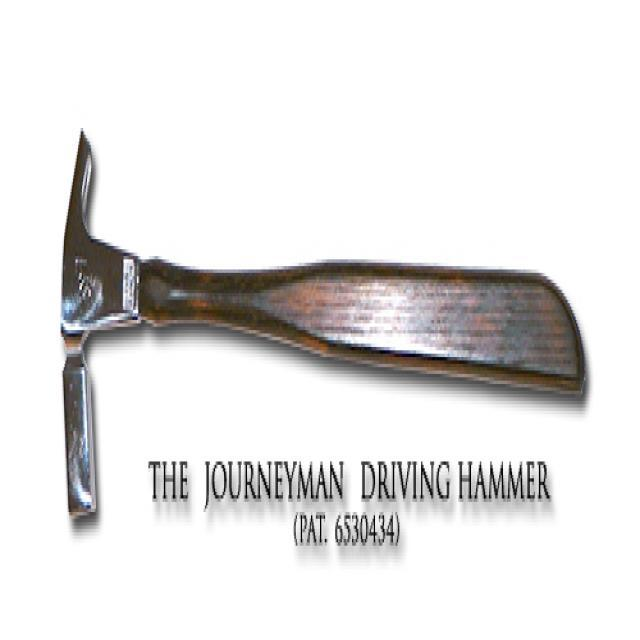hammer: (52, 106, 598, 563)
